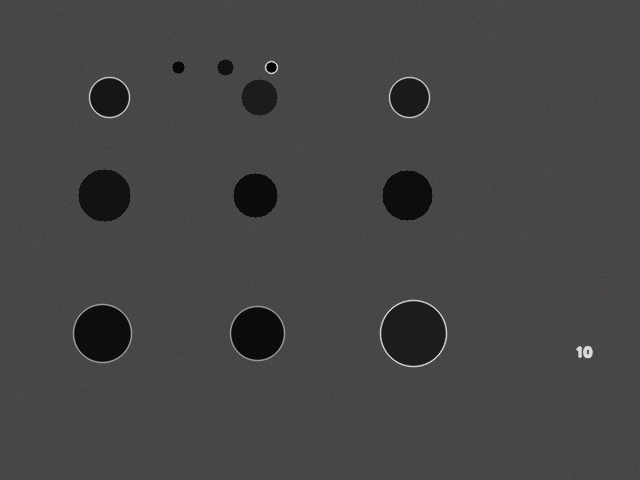hole: (380, 300, 446, 366), (73, 304, 131, 362), (230, 306, 284, 360), (78, 169, 130, 221), (382, 170, 432, 220), (233, 173, 277, 217), (89, 77, 129, 117), (389, 77, 429, 117), (241, 79, 277, 115), (217, 59, 233, 75), (172, 61, 184, 73), (265, 61, 277, 73)
